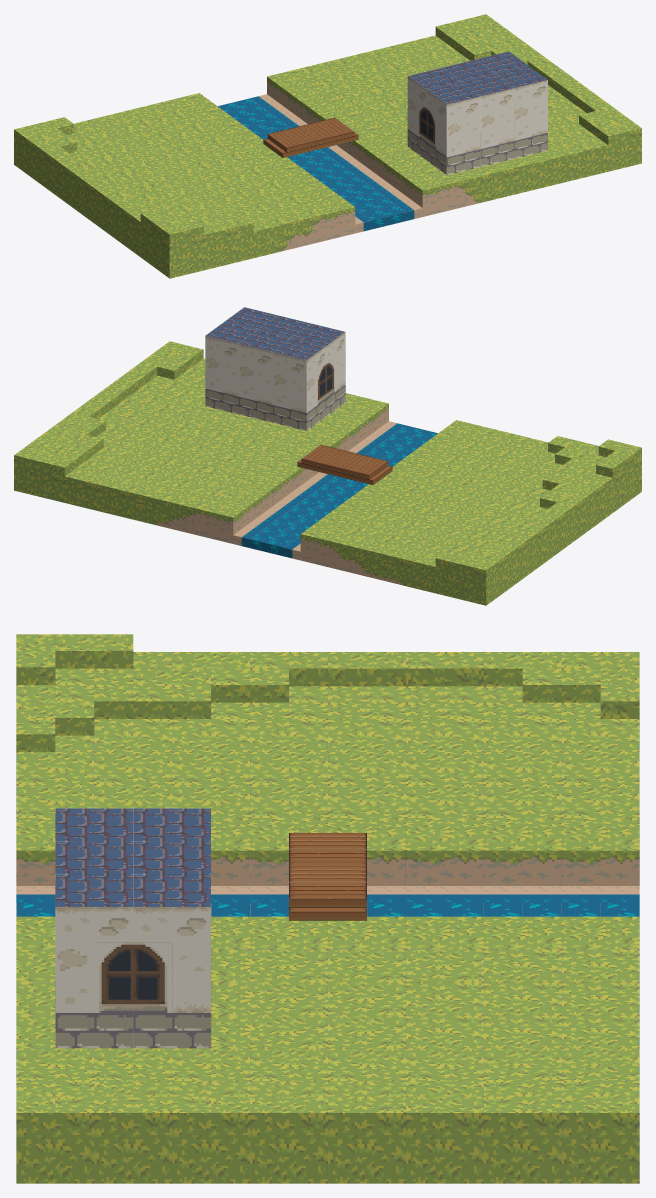
Rendered from Map.obj.
3 renders of one model, top to bottom at view 1: azimuth 30°, elevation 25°; view 2: azimuth 150°, elevation 25°; view 3: azimuth 270°, elevation 25°, orthographic. The views are drawn at different scales.
Parts seen in each view (by area): view 1: Cube; view 2: Cube; view 3: Cube.
Part boxes in pixels (box(x1,y1,x2,y2)): Cube: box(14, 14, 641, 278); Cube: box(14, 307, 641, 605); Cube: box(16, 634, 639, 1183).
Size of the model in its own units: 42 by 8.25 by 24.
